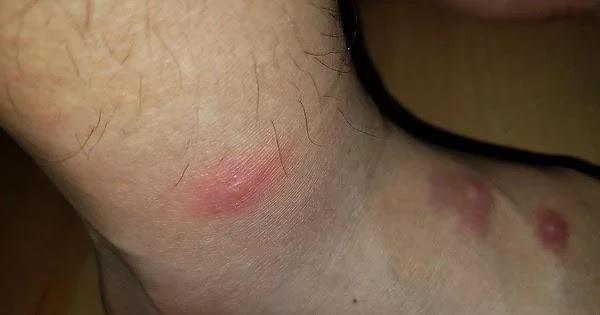Beetle: (167, 158, 291, 221)
